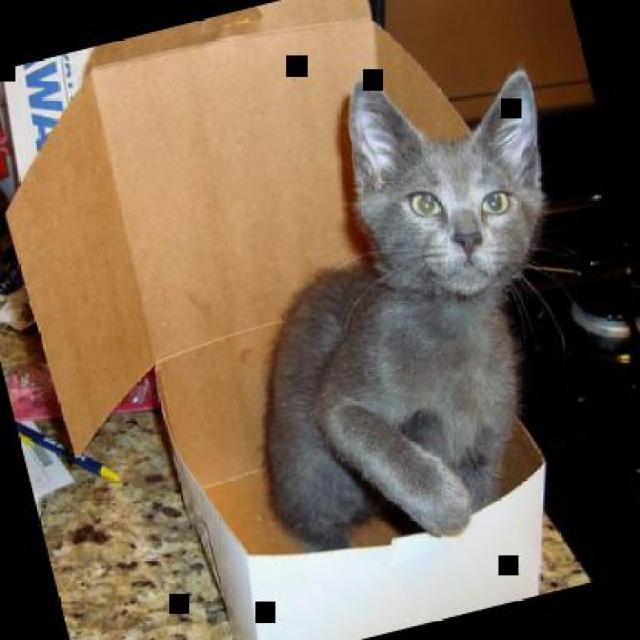cat: (178, 37, 634, 575)
